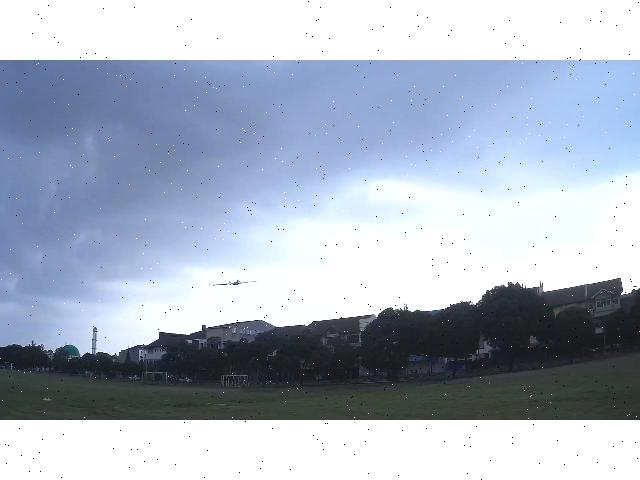Anti-Drone: (208, 279, 258, 285)
